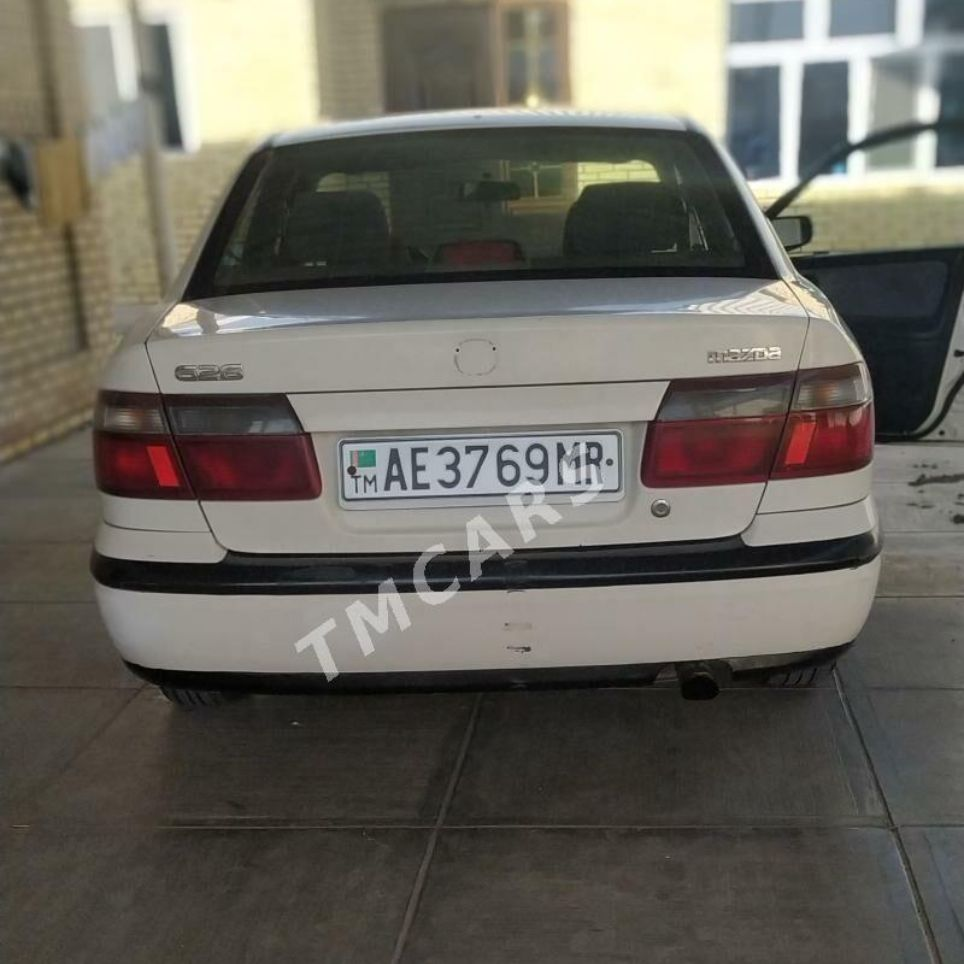license plate: (342, 442, 610, 495)
truck: (91, 95, 879, 701)
